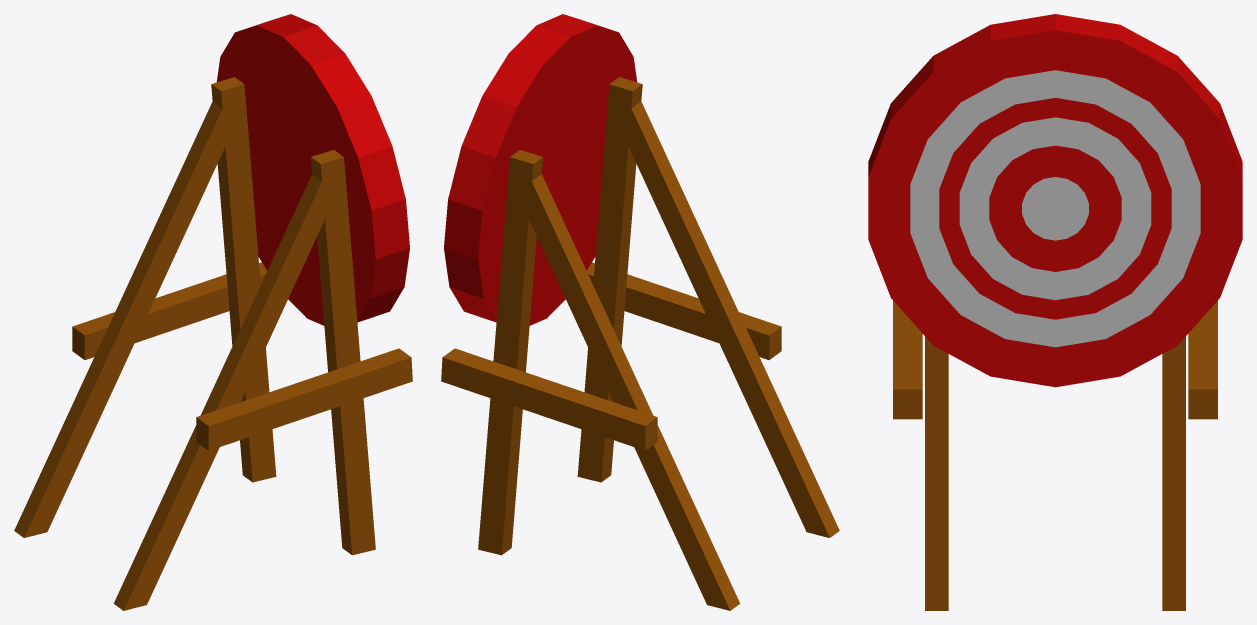
The model's file is Target.fbx.
3 renders of one model, left to right at view 1: azimuth 30°, elevation 25°; view 2: azimuth 150°, elevation 25°; view 3: azimuth 270°, elevation 25°, orthographic. The views are drawn at different scales.
Visible parts, largest first — view 1: Stand, Target; view 2: Stand, Target; view 3: Target, Stand.
Boxes of the visible parts, box(x1,y1,x2,y2) form: Stand: box(14, 77, 412, 610); Target: box(216, 14, 409, 325); Stand: box(441, 77, 839, 610); Target: box(444, 14, 637, 325); Target: box(868, 14, 1242, 387); Stand: box(893, 301, 1217, 610).
Size of the model in its own units: 160 by 269 by 158.
